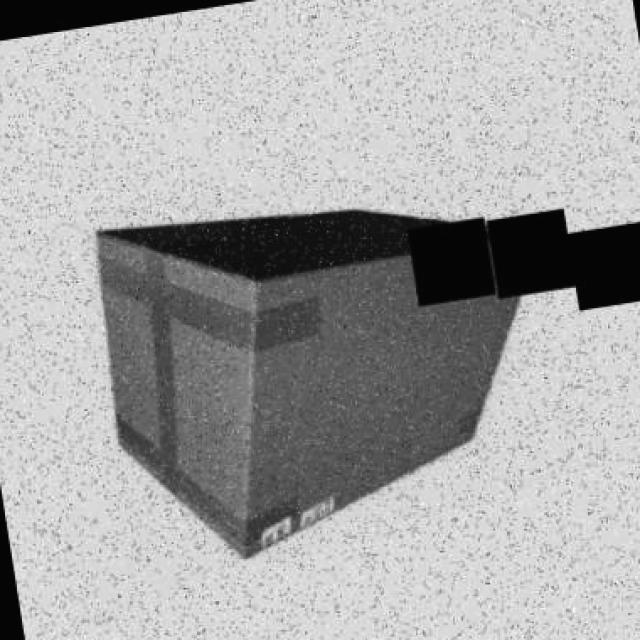box: (71, 145, 588, 588)
